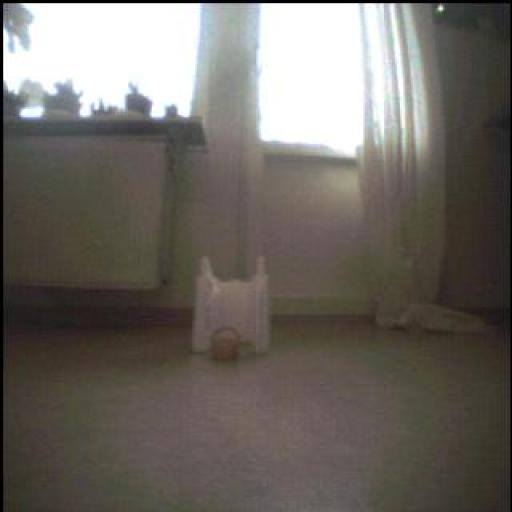Basket: (206, 326, 246, 365)
